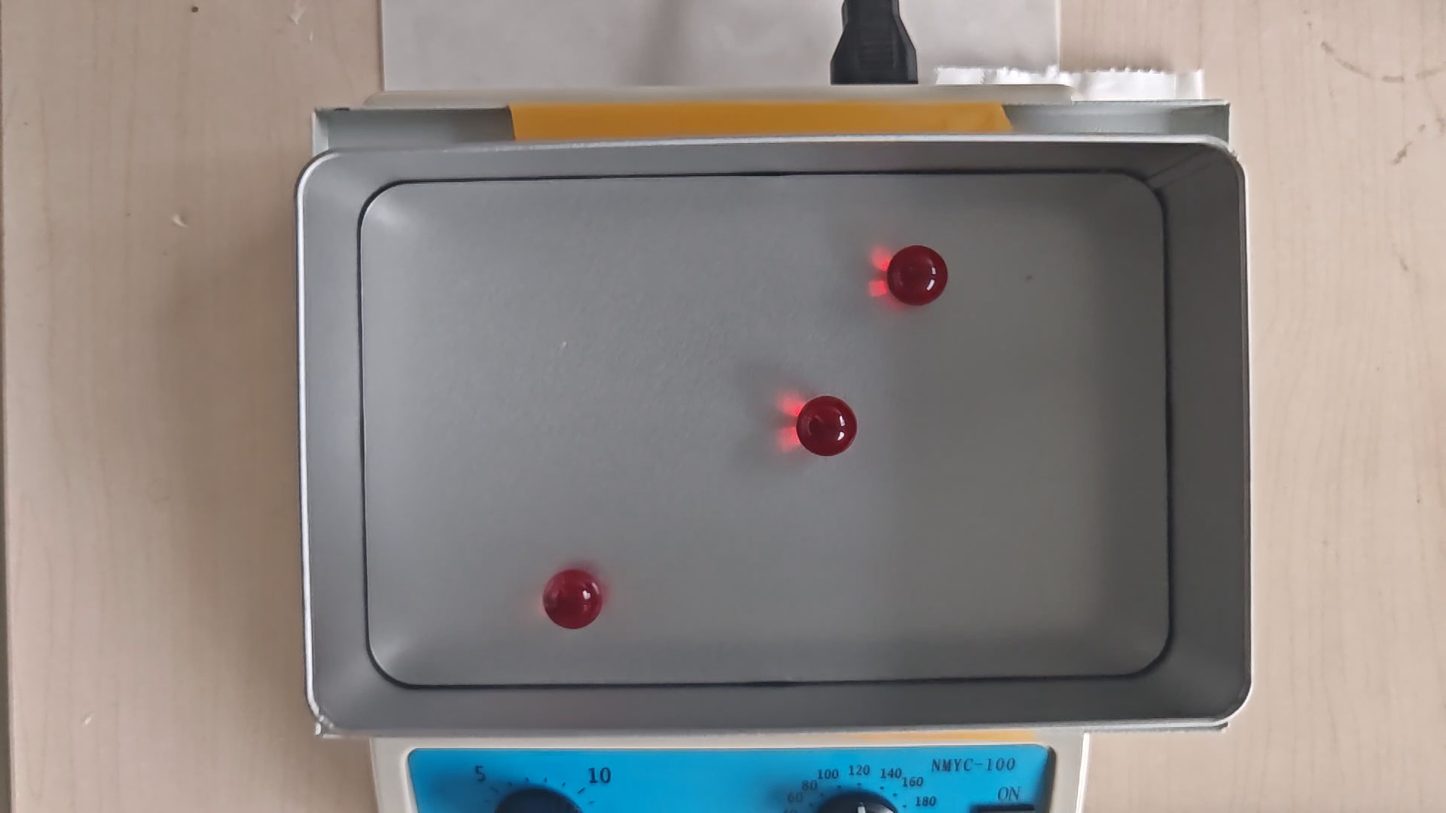ball: (889, 245, 947, 308), (543, 569, 603, 629), (797, 394, 856, 455)
container: (362, 172, 1169, 685)
